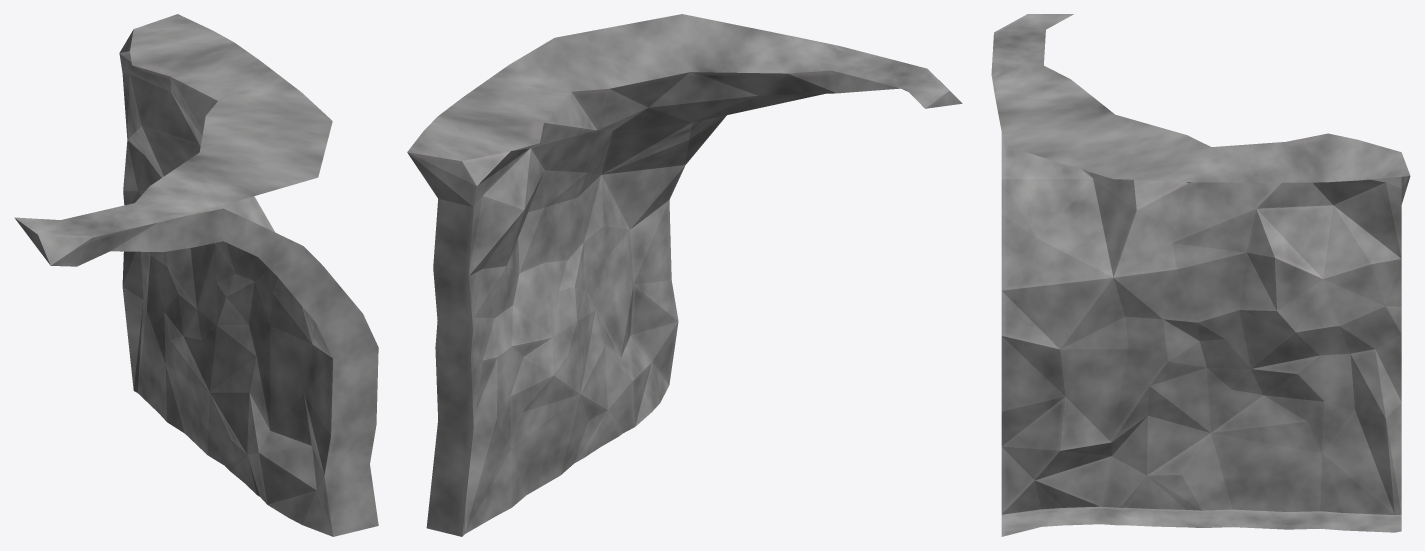
The model's file is WallToRoofCorner2.gltf.
The picture shows the model from 3 angles, left to right: view 1: azimuth 30°, elevation 25°; view 2: azimuth 150°, elevation 25°; view 3: azimuth 270°, elevation 25°; orthographic projection. The views are drawn at different scales.
Parts seen in each view (by area): view 1: WallToRoofCorner2; view 2: WallToRoofCorner2; view 3: WallToRoofCorner2.
Boxes of the visible parts, <box> form: WallToRoofCorner2: <box>14,14,378,536</box>; WallToRoofCorner2: <box>407,14,962,536</box>; WallToRoofCorner2: <box>991,14,1410,536</box>.
Size of the model in its own units: 4.99 by 5 by 5.24.
1 material, 1 textured.
